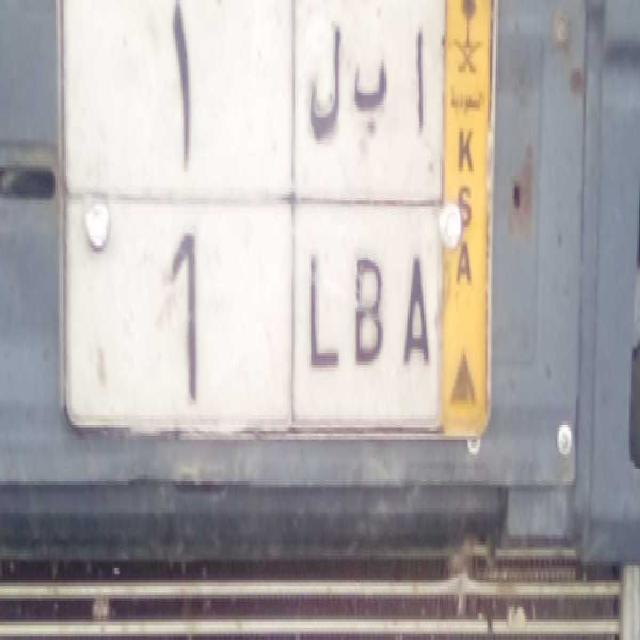license_plate: (61, 183, 446, 446)
